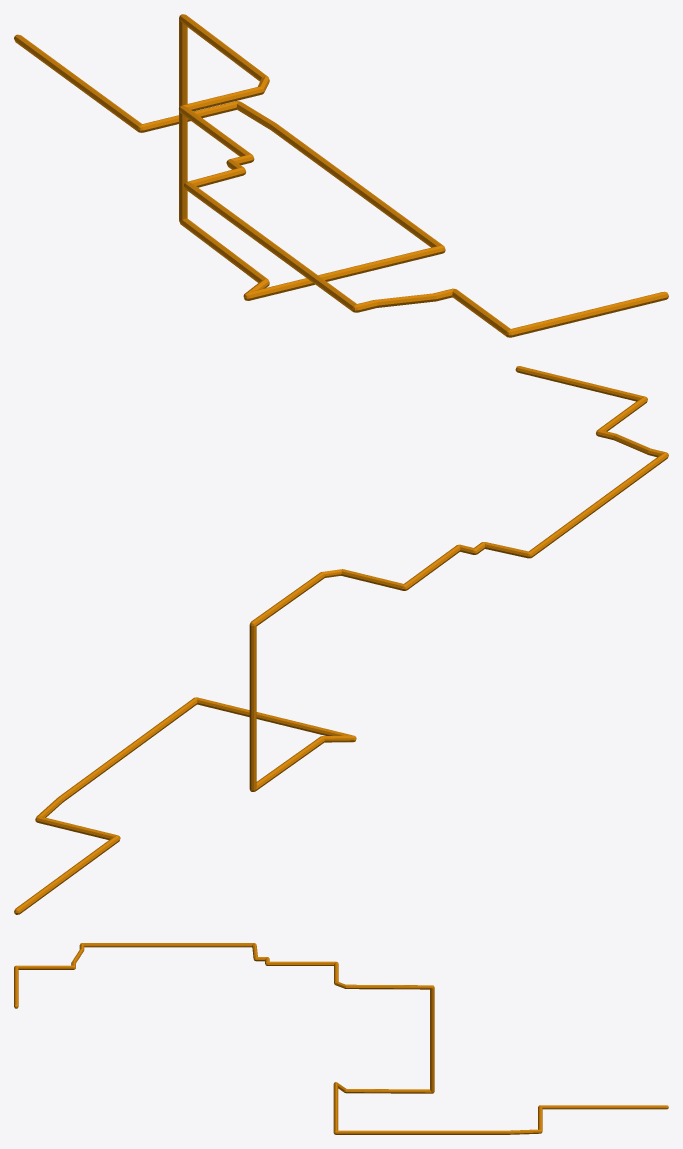
3 views of the same model, one above another, from view 1: azimuth 30°, elevation 25°; view 2: azimuth 150°, elevation 25°; view 3: azimuth 270°, elevation 25° (orthographic). The views are drawn at different scales.
Size of the model in its own units: 878 by 520 by 2850.
